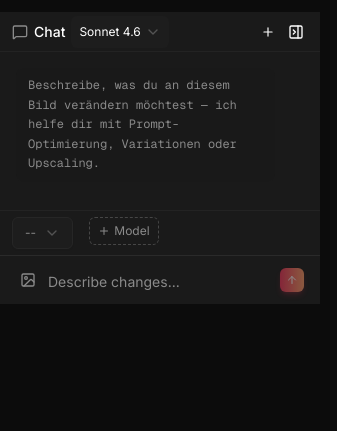
Test: CanvasChatMessages (via ChatThread) › AC-12: should clear chat history and show only init message when new session button is clicked
Type "Hello world" into the text box with test id "chat-input-textarea" at (160, 282), box [48, 272, 272, 292]
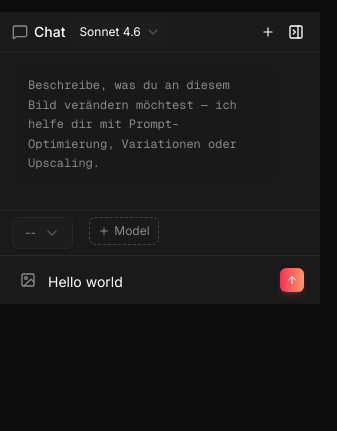
Click the button with test id "send-btn" at (292, 280), box [280, 268, 304, 292]
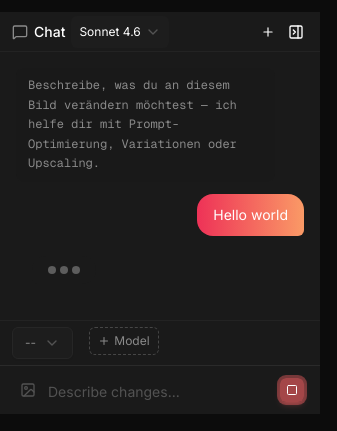
Expected: the element with test id "user-message" is shown, [197, 194, 304, 236]
Note: Click the new session button
Click the button with test id "chat-new-session-button" at (268, 32), box [256, 20, 280, 44]
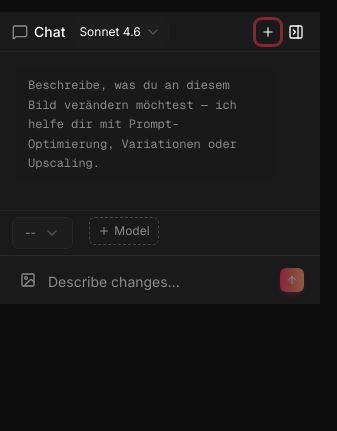
Expected: the element with test id "init-message" is shown, [16, 68, 304, 182]
Expected: the element with test id "user-message" is gone
